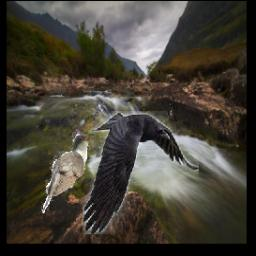Crow: (83, 111, 199, 234)
Cuckoo: (42, 132, 96, 213)
